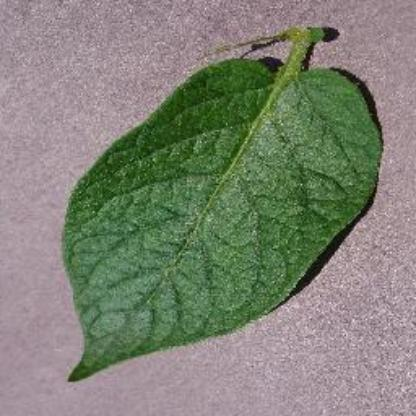Healthy-plant: (65, 18, 383, 384)
